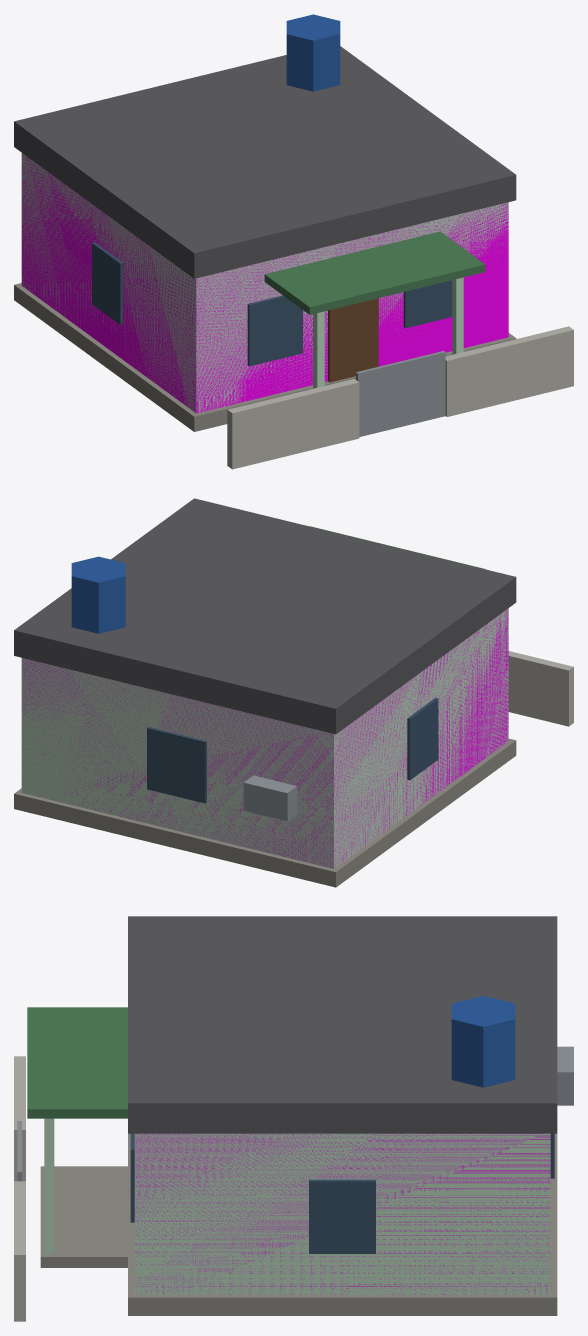
Rendered from House_1S_04.glb.
3 renders of one model, top to bottom at view 1: azimuth 30°, elevation 25°; view 2: azimuth 150°, elevation 25°; view 3: azimuth 270°, elevation 25°, orthographic. The views are drawn at different scales.
Parts seen in each view (by area): view 1: House_1S_04, House_1S_04_COL; view 2: House_1S_04, House_1S_04_COL; view 3: House_1S_04, House_1S_04_COL.
Part boxes in pixels (x1,y1,x2,y2): House_1S_04: (14,14,573,469); House_1S_04_COL: (21,153,508,413); House_1S_04: (14,498,573,887); House_1S_04_COL: (21,608,508,868); House_1S_04: (14,916,573,1321); House_1S_04_COL: (134,1133,550,1294).
Bounding box in the file's own units: 7 × 4.5 × 8.35.
